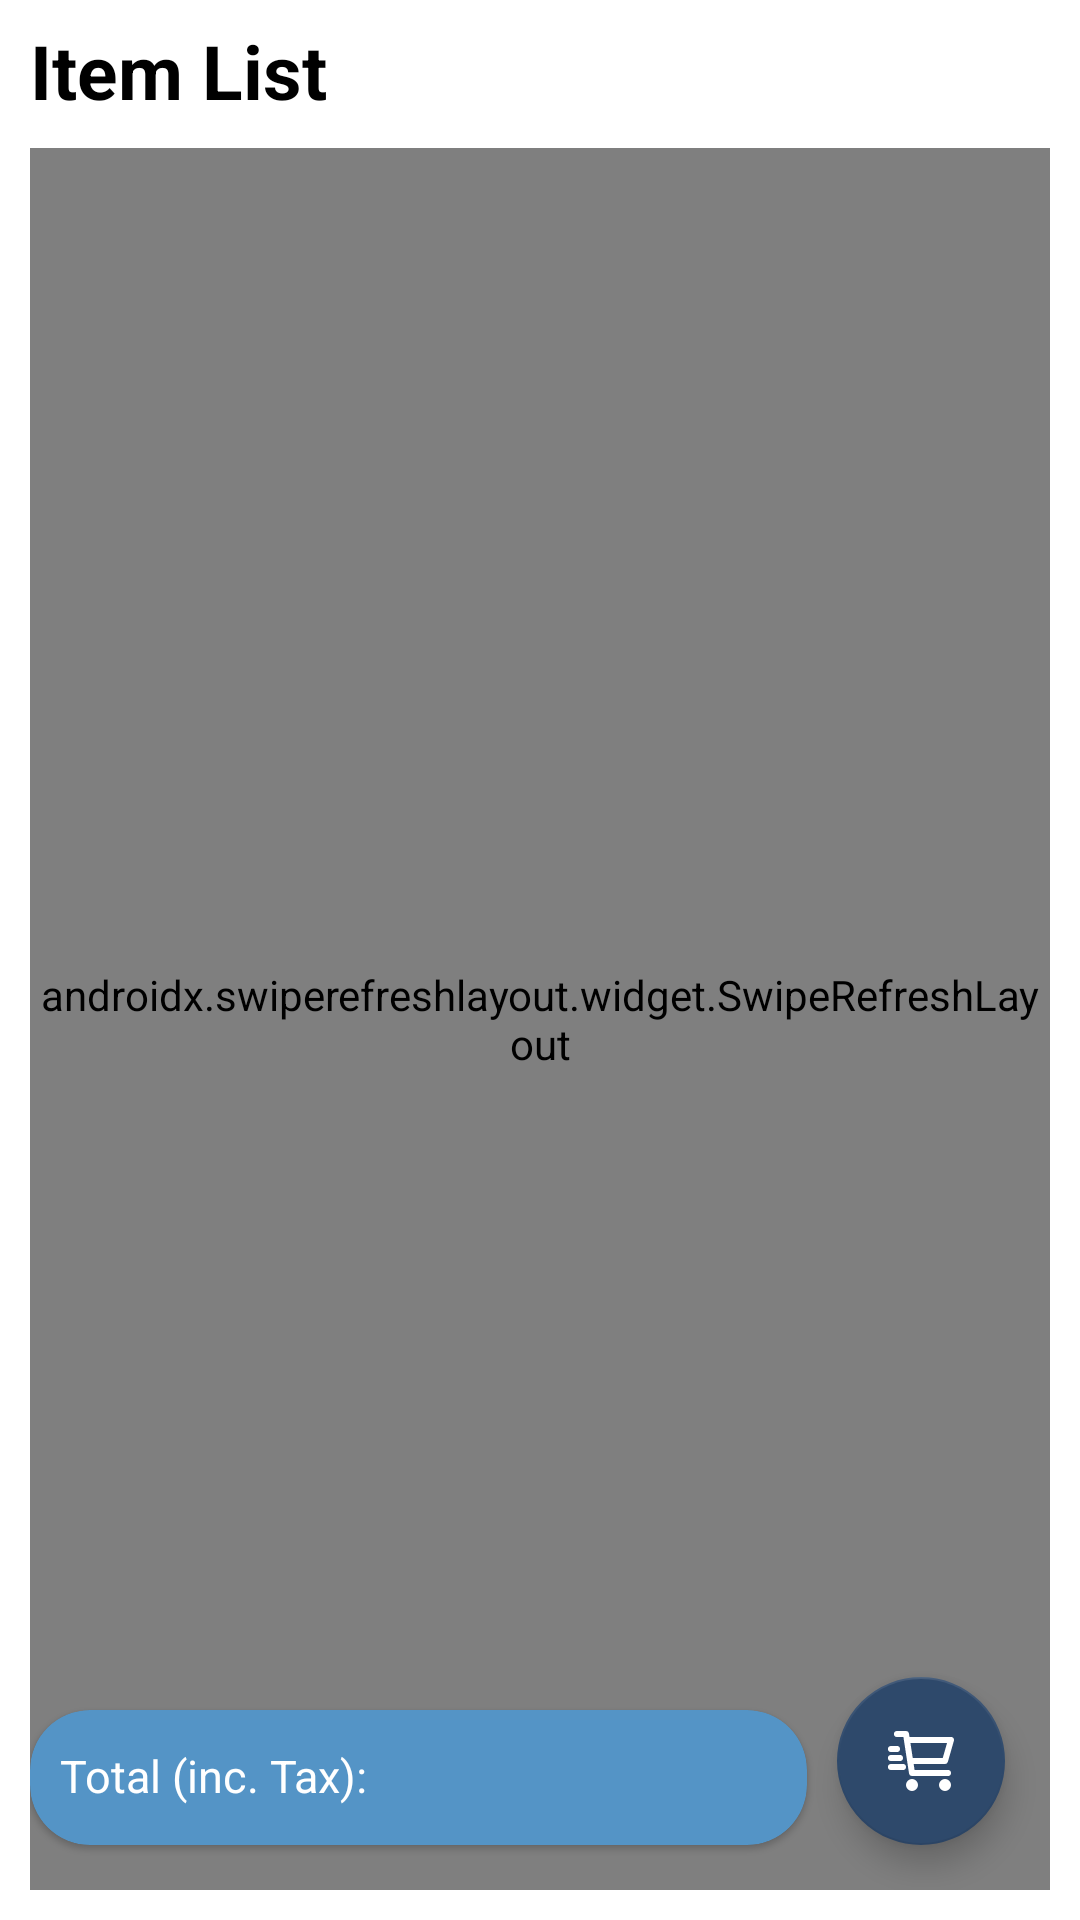

Screen size 1080×1920. Icon name, then its center in pixels as (x=x, y=y):
Cart: (x=921, y=1761)
